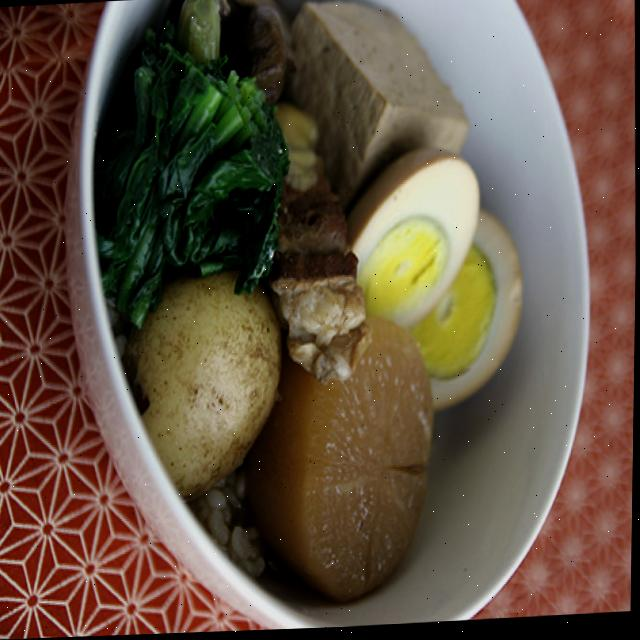汤锅炖物: (91, 0, 539, 609)
